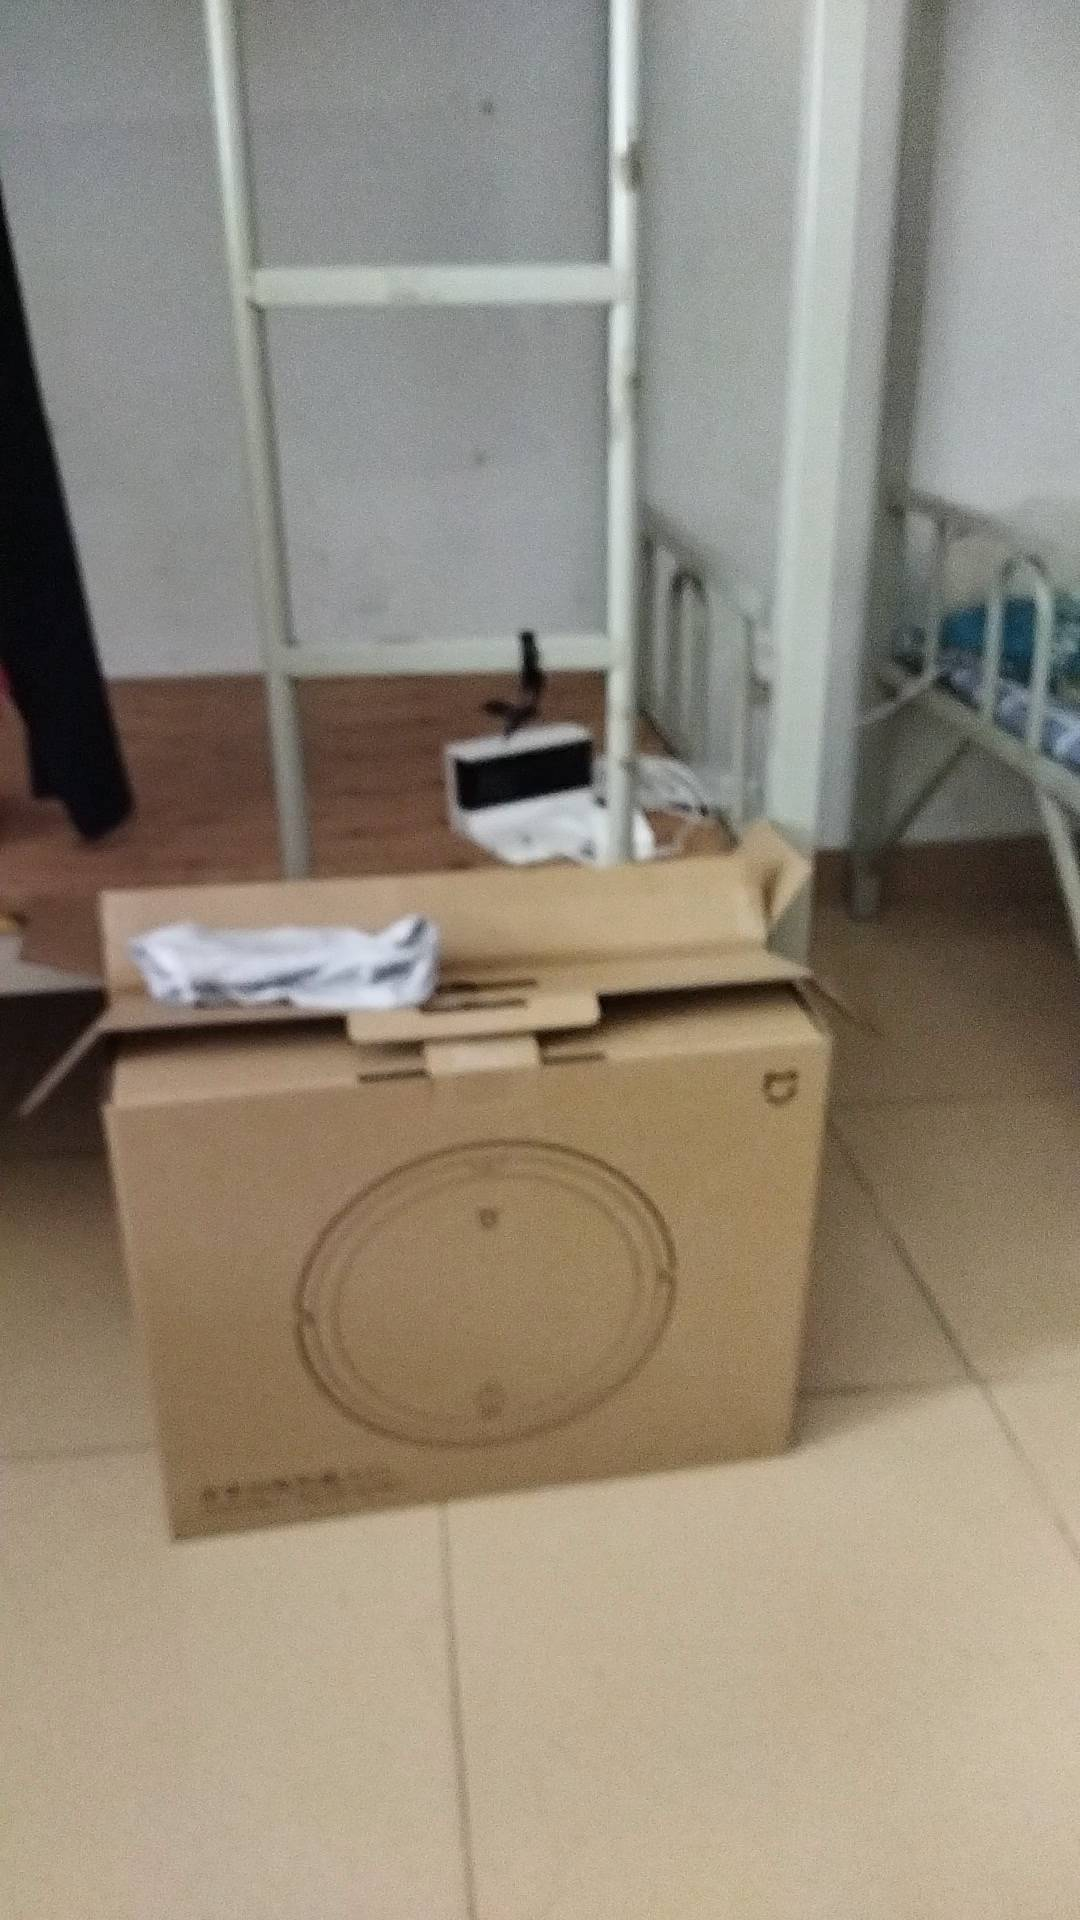recharge seat: (440, 717, 603, 870)
